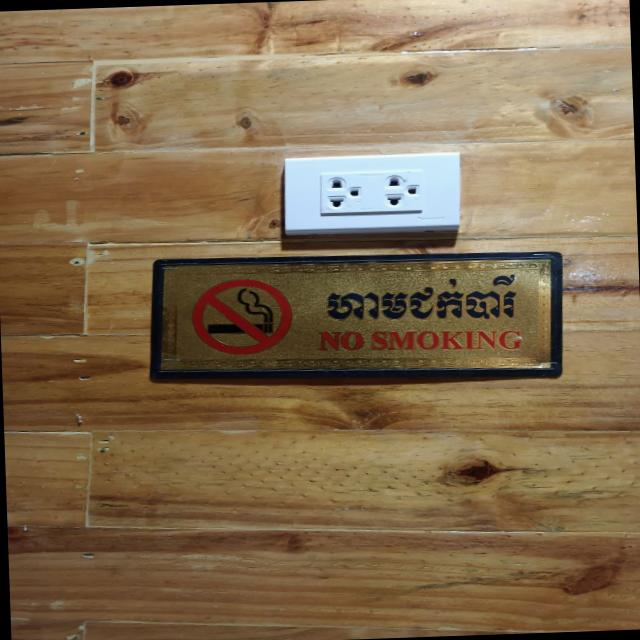Yolov11_80vkh: (316, 270, 518, 322)
